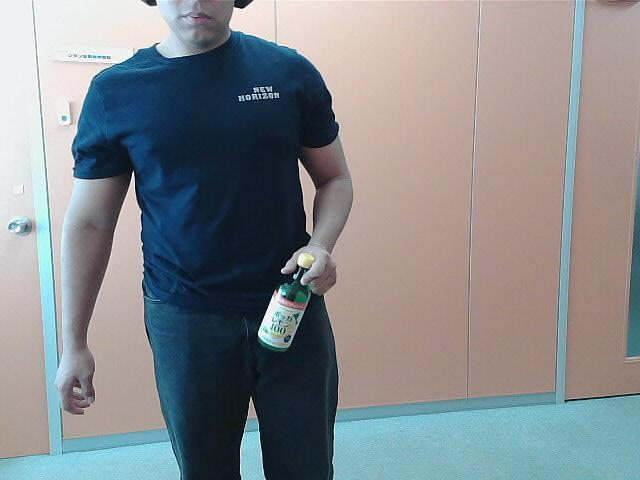Lemon_sapporo: (250, 248, 320, 358)
